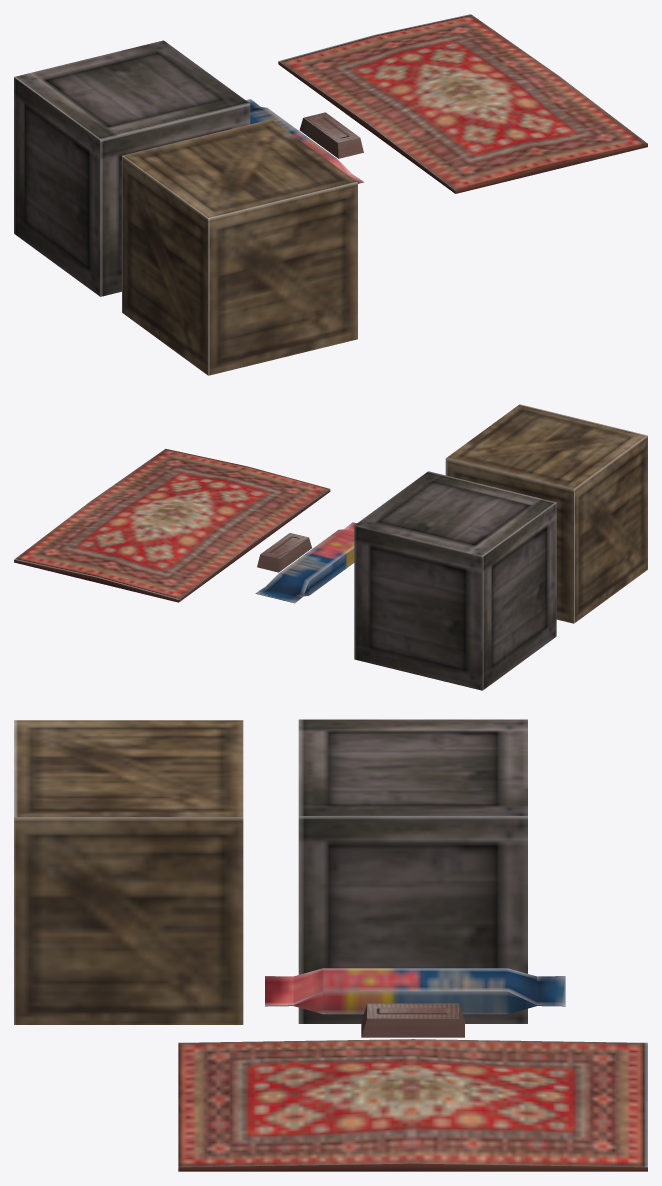
File: items_in_ps1_style.glb
3 views of the same model, one above another, from view 1: azimuth 30°, elevation 25°; view 2: azimuth 150°, elevation 25°; view 3: azimuth 270°, elevation 25° (orthographic). The views are drawn at different scales.
Parts seen in each view (by area): view 1: Cube.002_2, Cube.004_4, Cube.001_1, Cube.003_3, Cube_0; view 2: Cube.001_1, Cube.004_4, Cube.002_2, Cube_0, Cube.003_3; view 3: Cube.002_2, Cube.004_4, Cube.001_1, Cube_0, Cube.003_3.
Part boxes in pixels (box(x1,y1,x2,y2)): Cube.002_2: box(122, 119, 357, 375); Cube.004_4: box(278, 14, 647, 193); Cube.001_1: box(14, 40, 250, 296); Cube.003_3: box(299, 112, 363, 158); Cube_0: box(246, 99, 363, 183); Cube.001_1: box(354, 471, 556, 690); Cube.004_4: box(14, 448, 330, 602); Cube.002_2: box(445, 404, 647, 623); Cube_0: box(255, 522, 356, 603); Cube.003_3: box(257, 533, 311, 572); Cube.002_2: box(14, 720, 243, 1024); Cube.004_4: box(178, 1039, 647, 1171); Cube.001_1: box(298, 719, 527, 1023); Cube_0: box(265, 968, 565, 1014); Cube.003_3: box(361, 1003, 464, 1037).
Bounding box in the file's own units: 6.71 × 2.01 × 5.53.
5 materials, 5 textured.
